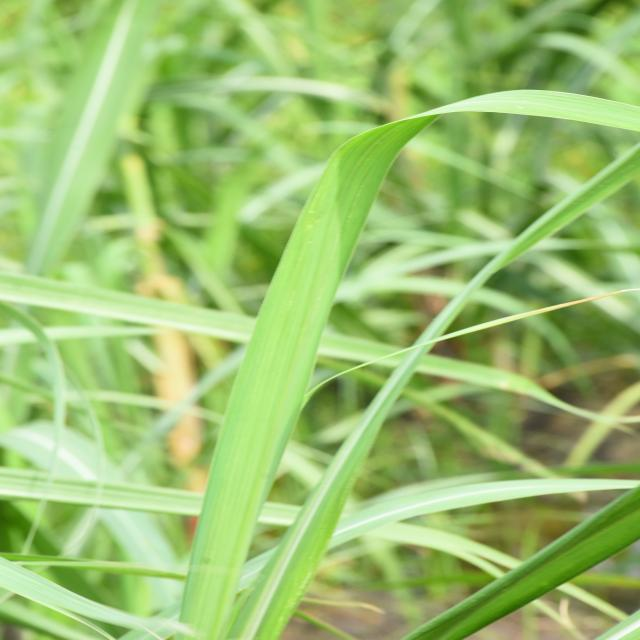Sugarcane: (178, 93, 640, 640)
